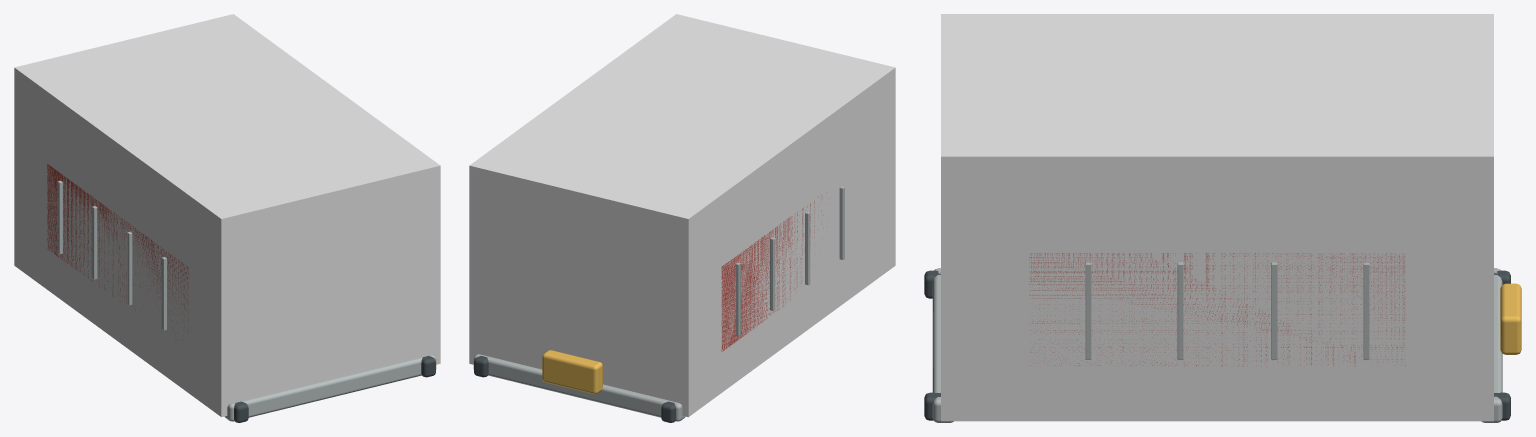
The model's file is Module_Fire.fbx.
3 renders of one model, left to right at view 1: azimuth 30°, elevation 25°; view 2: azimuth 150°, elevation 25°; view 3: azimuth 270°, elevation 25°, orthographic. The views are drawn at different scales.
Visible parts, largest first — view 1: COL_Tank, Pump side cabinet, Load frame cross rail, Shutter ridge.001, Shutter ridge.002, Shutter ridge.003, Shutter ridge; view 2: COL_Tank, Pump side cabinet, Load frame cross rail.001, Hydraulic and electric coupling block, Shutter ridge.001, Shutter ridge.002, Shutter ridge.003, Shutter ridge; view 3: COL_Tank, Pump side cabinet.001, Hydraulic and electric coupling block, Load frame cross rail, Load frame cross rail.001, Shutter ridge.004, Shutter ridge.006, Shutter ridge.007, Shutter ridge.005, Load frame longitudinal.001.
Boxes of the visible parts, x1=… form: COL_Tank: x1=14, y1=14, x2=440, y2=417; Pump side cabinet: x1=47, y1=164, x2=188, y2=342; Load frame cross rail: x1=224, y1=354, x2=436, y2=421; Shutter ridge.001: x1=127, y1=231, x2=132, y2=305; Shutter ridge.002: x1=92, y1=206, x2=97, y2=279; Shutter ridge.003: x1=57, y1=180, x2=62, y2=254; Shutter ridge: x1=161, y1=257, x2=166, y2=330; COL_Tank: x1=469, y1=14, x2=895, y2=417; Pump side cabinet: x1=721, y1=195, x2=823, y2=351; Load frame cross rail.001: x1=473, y1=354, x2=685, y2=421; Hydraulic and electric coupling block: x1=542, y1=350, x2=602, y2=394; Shutter ridge.001: x1=805, y1=211, x2=810, y2=285; Shutter ridge.002: x1=770, y1=237, x2=775, y2=310; Shutter ridge.003: x1=735, y1=262, x2=740, y2=336; Shutter ridge: x1=839, y1=186, x2=844, y2=259; COL_Tank: x1=941, y1=14, x2=1493, y2=421; Pump side cabinet.001: x1=1029, y1=253, x2=1405, y2=366; Hydraulic and electric coupling block: x1=1500, y1=283, x2=1521, y2=354; Load frame cross rail: x1=932, y1=268, x2=953, y2=422; Load frame cross rail.001: x1=1481, y1=268, x2=1502, y2=422; Shutter ridge.004: x1=1085, y1=262, x2=1091, y2=359; Shutter ridge.006: x1=1271, y1=262, x2=1277, y2=359; Shutter ridge.007: x1=1363, y1=262, x2=1369, y2=359; Shutter ridge.005: x1=1177, y1=262, x2=1183, y2=359; Load frame longitudinal.001: x1=924, y1=392, x2=1510, y2=420.
Bounding box in the file's own units: 2.27 × 1.95 × 3.89.
